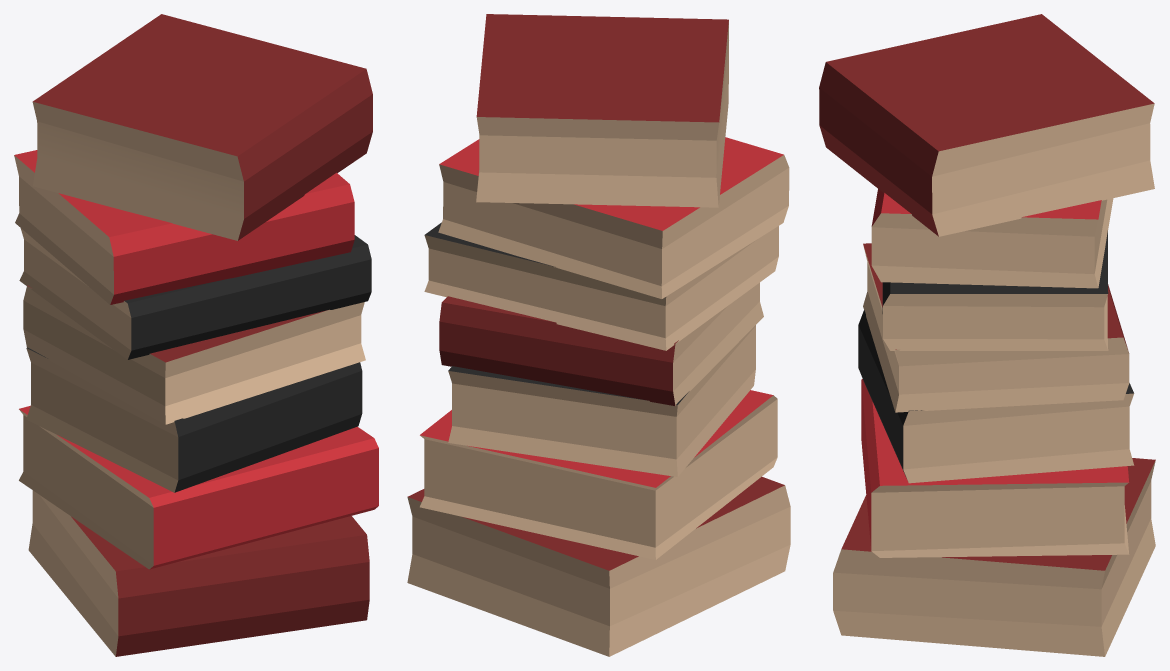
Rendered from fantasy_books-pile.fbx.
3 views of the same model, side by side, from view 1: azimuth 30°, elevation 25°; view 2: azimuth 150°, elevation 25°; view 3: azimuth 270°, elevation 25° (orthographic).
Visible parts, largest first — view 1: fantasy_books_pile; view 2: fantasy_books_pile; view 3: fantasy_books_pile.
Part boxes in pixels (<box>): fantasy_books_pile: <box>14,14,378,656</box>; fantasy_books_pile: <box>407,14,790,656</box>; fantasy_books_pile: <box>819,14,1155,656</box>.
Bounding box in the file's own units: 118 × 199 × 120.
